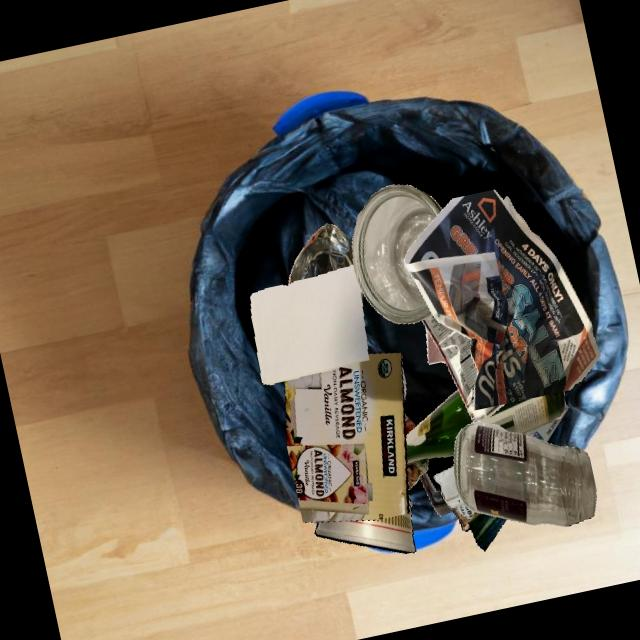biowaste: (468, 512, 506, 551)
cardboard: (284, 352, 409, 522), (433, 466, 478, 531), (522, 403, 568, 442), (419, 471, 452, 516)
glass: (453, 421, 596, 526), (352, 184, 442, 323), (405, 389, 473, 462), (480, 391, 565, 433), (402, 368, 405, 400)
metal: (288, 223, 353, 285)
paper: (404, 189, 600, 410), (250, 264, 368, 384), (426, 327, 445, 364)
plastic: (421, 313, 505, 422)
trash: (315, 467, 415, 553)
